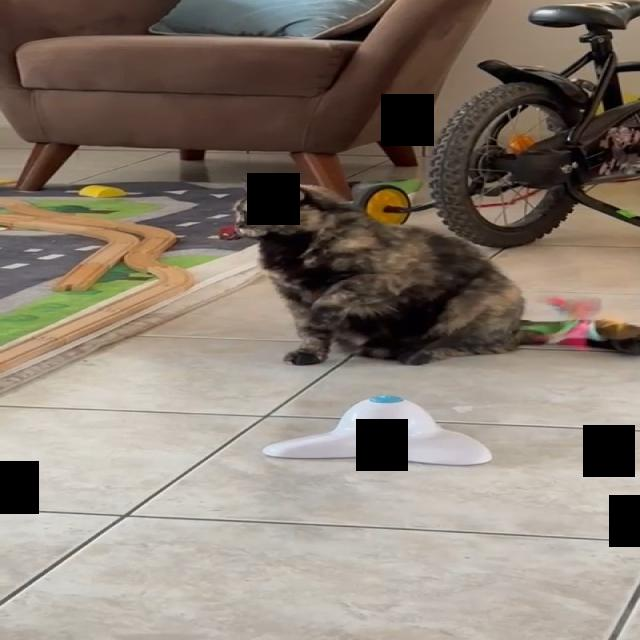authorized: (229, 177, 531, 366)
